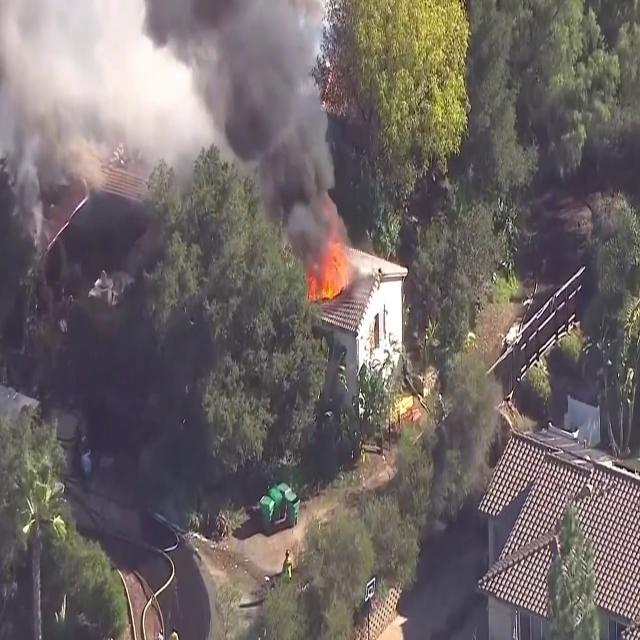Fire: (311, 234, 354, 304)
Smoke: (146, 0, 350, 258), (0, 0, 184, 189)
